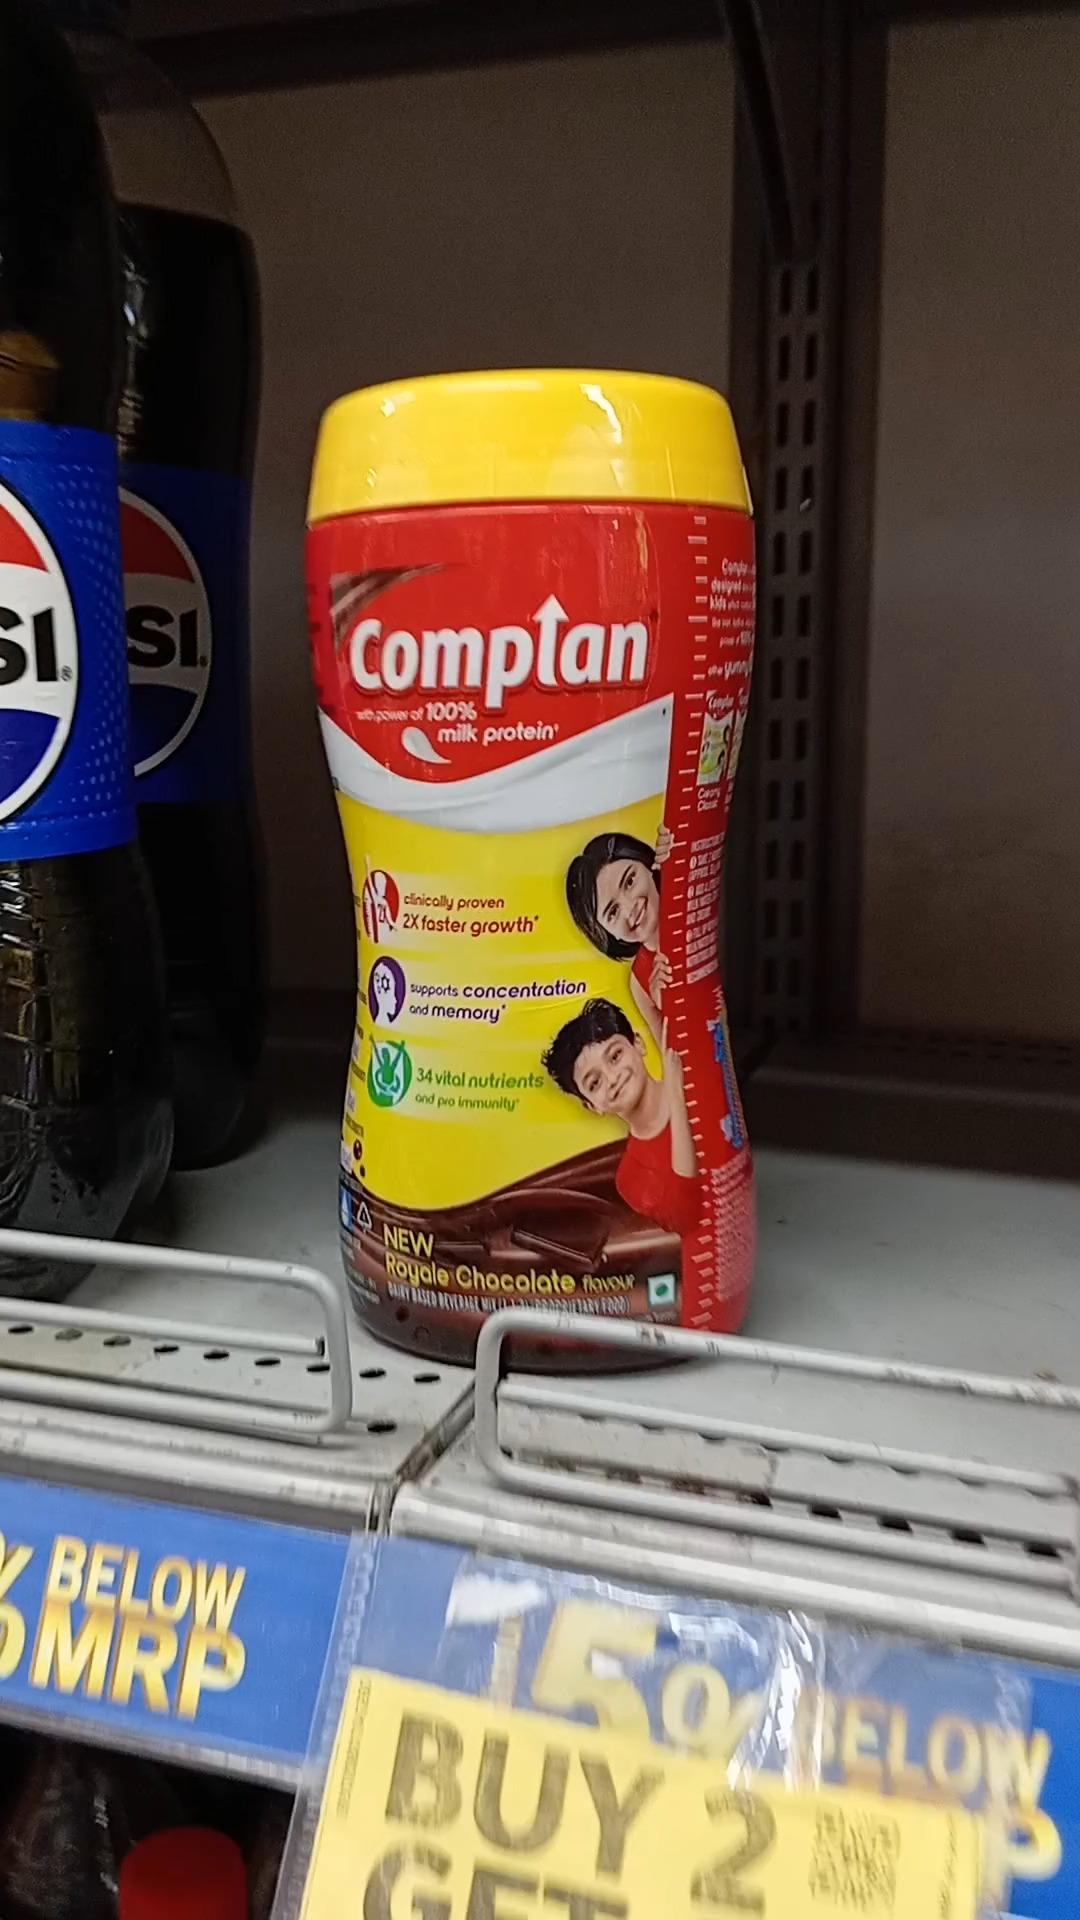COMPLAN_CHOCOLATE_500_GMS_JAR: (299, 381, 744, 1373)
